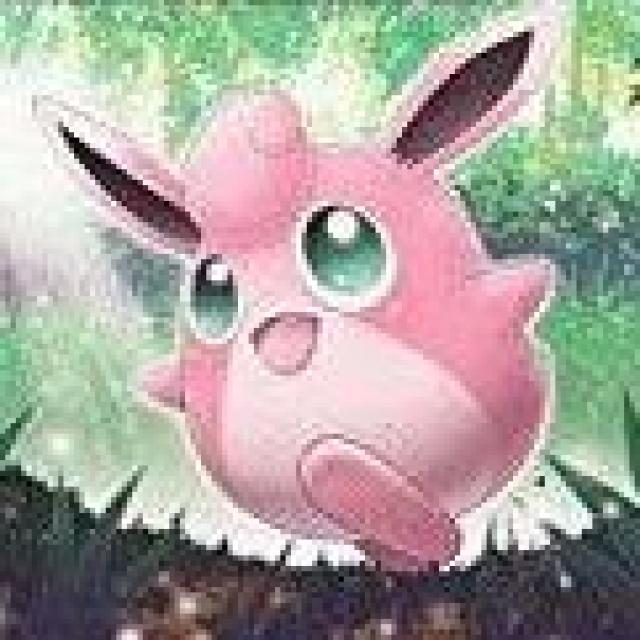Wigglytuff: (139, 84, 541, 543)
